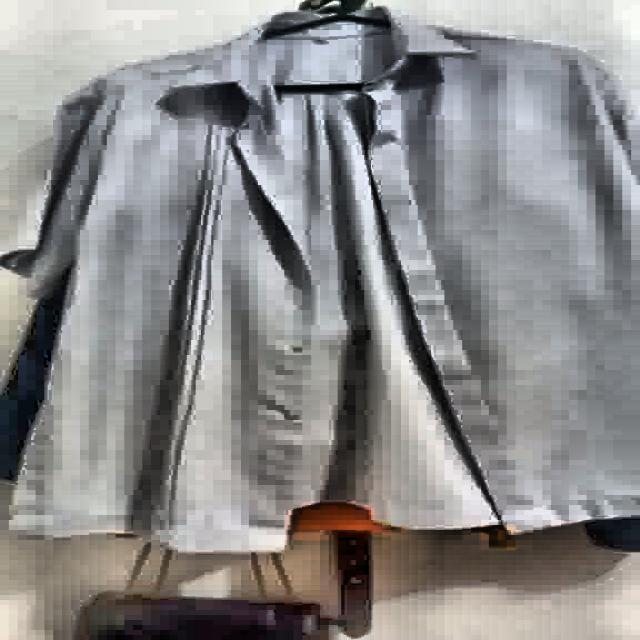clothes: (0, 9, 640, 559)
